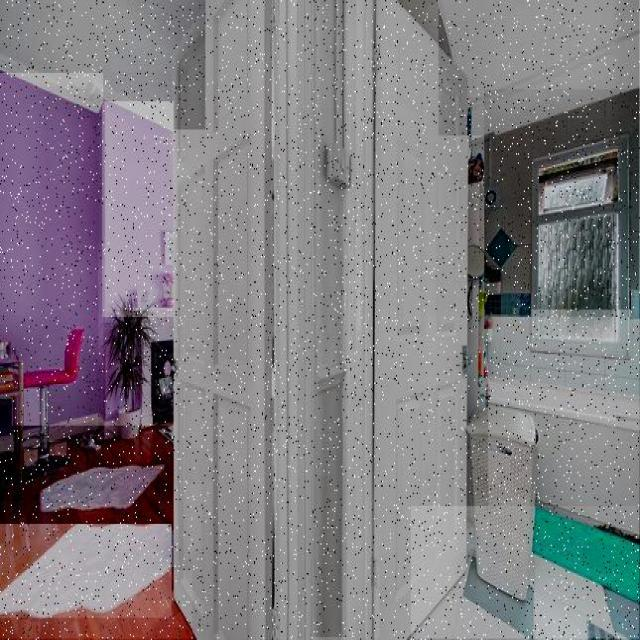Wall: (0, 73, 103, 423), (485, 91, 639, 310), (489, 317, 639, 533), (411, 506, 640, 639), (0, 426, 174, 591), (439, 0, 639, 135), (0, 0, 205, 129), (314, 0, 346, 637), (0, 525, 172, 618), (103, 103, 174, 317), (0, 572, 192, 639), (485, 294, 531, 316), (24, 389, 40, 429), (0, 400, 12, 436), (0, 451, 12, 476), (631, 291, 640, 317), (50, 441, 66, 455), (24, 450, 38, 466), (160, 426, 173, 438)
